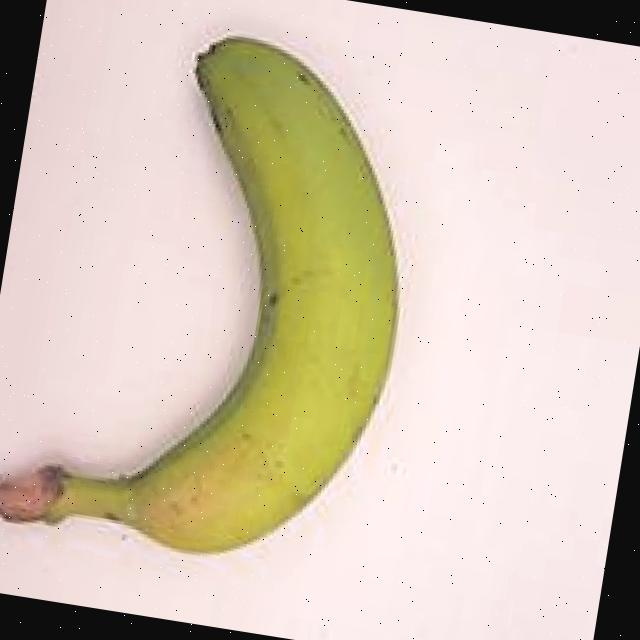Unripe: (0, 0, 482, 621)
